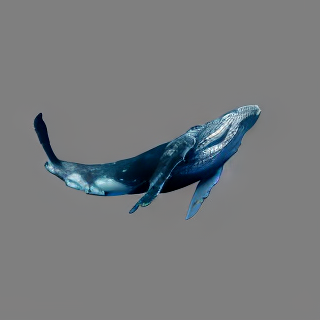Humpback whale: (31, 103, 262, 221)
